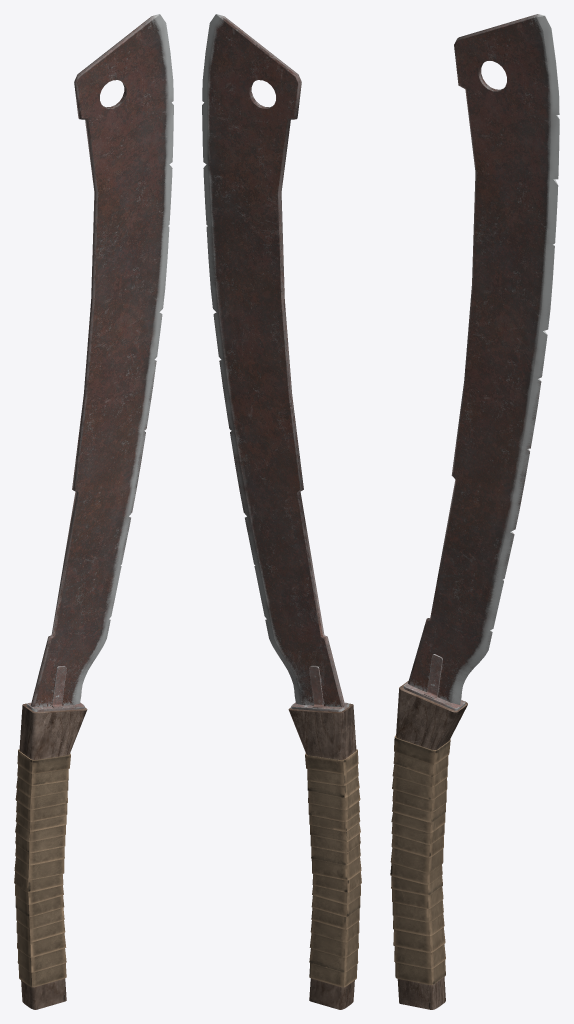
File: w_machete.glb
3 renders of one model, left to right at view 1: azimuth 30°, elevation 25°; view 2: azimuth 150°, elevation 25°; view 3: azimuth 330°, elevation 25°, orthographic. The views are drawn at different scales.
Visible parts, largest first — view 1: w_machete; view 2: w_machete; view 3: w_machete.
Boxes of the visible parts, left/top/right/bottom form: w_machete: left=14, top=14, right=173, bottom=1009; w_machete: left=202, top=14, right=361, bottom=1009; w_machete: left=390, top=14, right=559, bottom=1009.
Bounding box in the file's own units: 0.1106 × 0.66 × 0.0196.
1 material, 1 textured.
